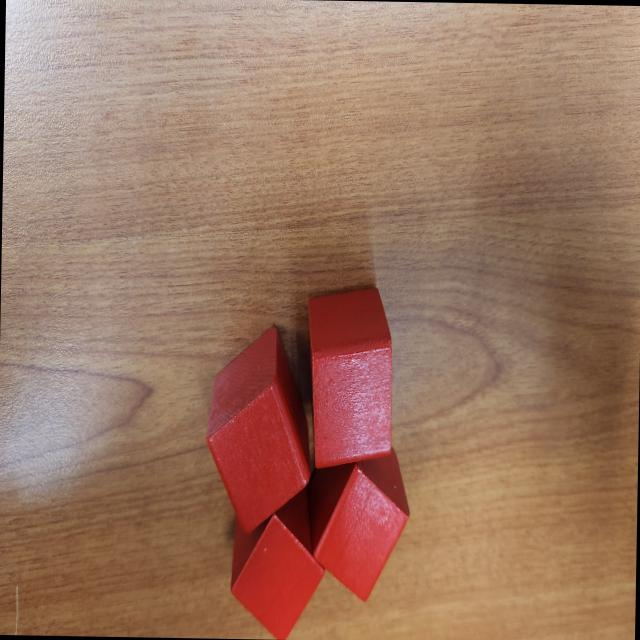red: (202, 322, 314, 538), (307, 442, 412, 608), (302, 286, 394, 470), (230, 495, 326, 636)
